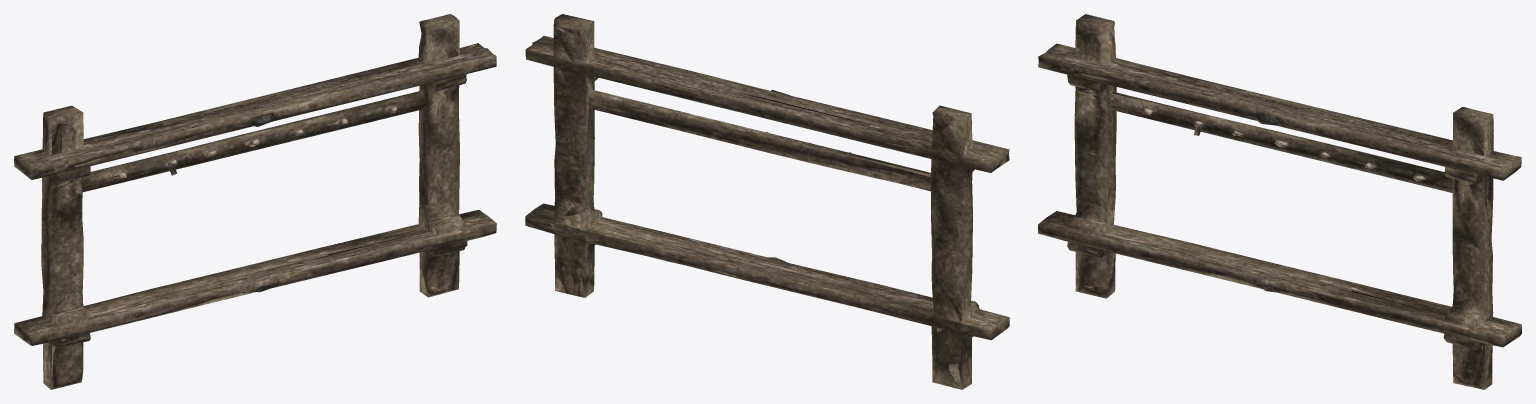
The model's file is weapon-rack.glb.
3 renders of one model, left to right at view 1: azimuth 30°, elevation 25°; view 2: azimuth 150°, elevation 25°; view 3: azimuth 330°, elevation 25°, orthographic.
Visible parts, largest first — view 1: weapon-rack; view 2: weapon-rack; view 3: weapon-rack.
Boxes of the visible parts, left/top/right/bottom form: weapon-rack: left=14, top=14, right=496, bottom=389; weapon-rack: left=525, top=14, right=1009, bottom=389; weapon-rack: left=1038, top=14, right=1521, bottom=389.
Size of the model in its own units: 4.5 by 2.5 by 0.3377.
1 material, 1 textured.
